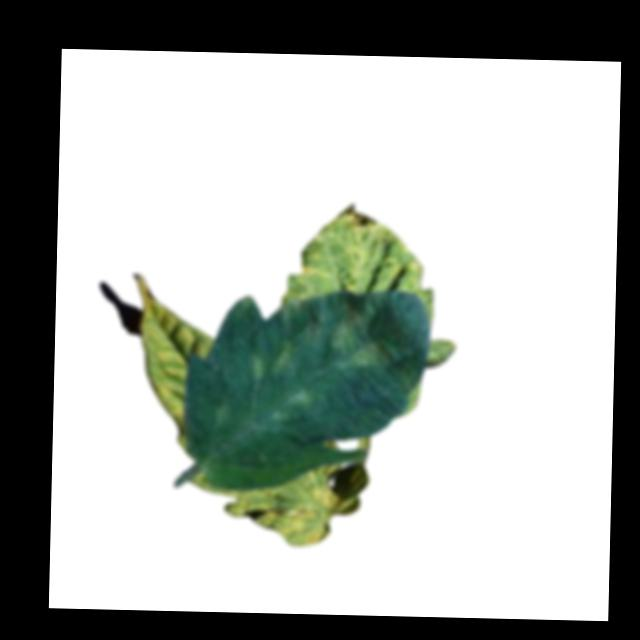Leaf_Mold: (139, 280, 215, 430), (296, 208, 425, 281), (263, 484, 348, 547), (328, 306, 406, 370)
